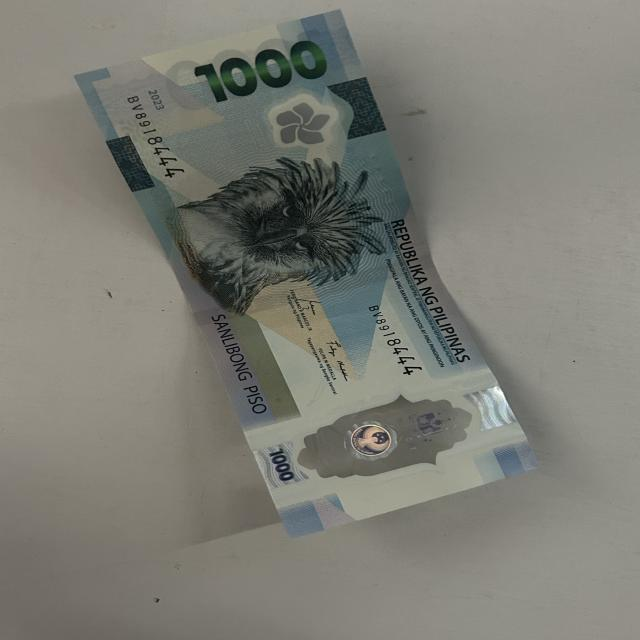clear_window: (284, 392, 494, 479)
eagle: (158, 166, 401, 291)
sampaguita: (262, 102, 343, 148)
security_thread: (191, 253, 437, 329)
serial_number: (120, 82, 197, 191), (355, 296, 427, 384)
value: (188, 36, 338, 100)
